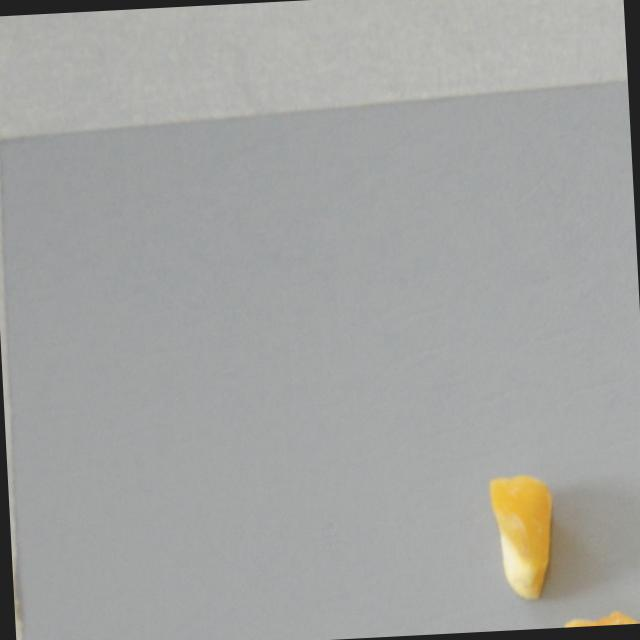dañado: (487, 466, 565, 607), (557, 604, 640, 628)
